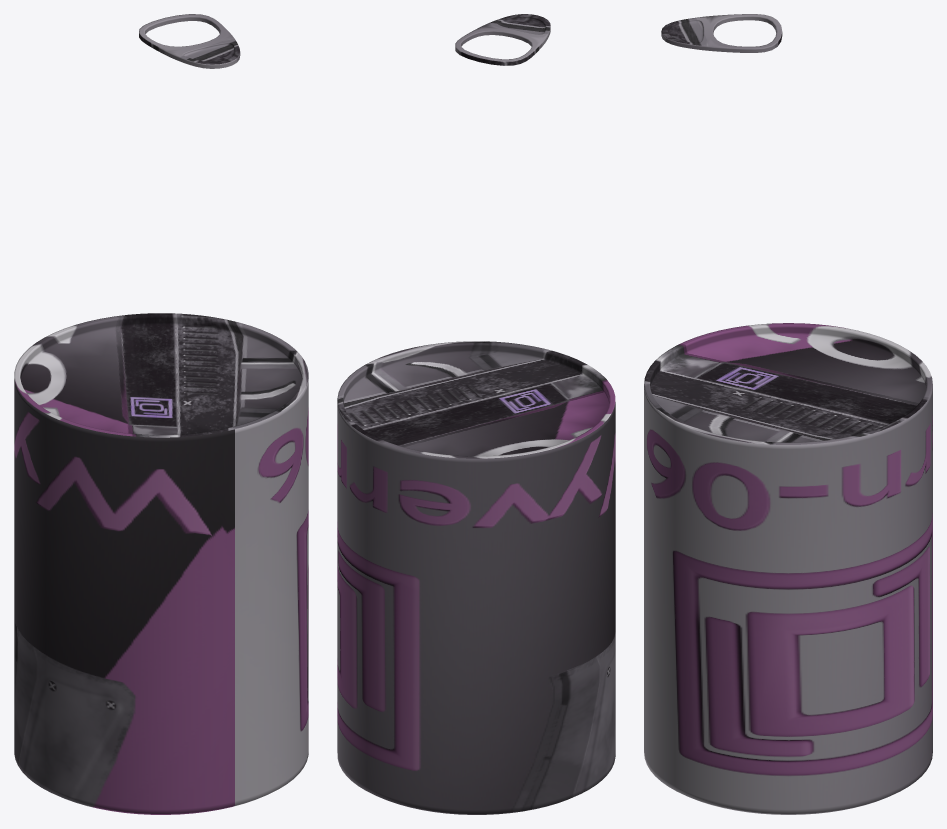
The model's file is SM_FoodCanHI.fbx.
The picture shows the model from 3 angles, left to right: view 1: azimuth 30°, elevation 25°; view 2: azimuth 150°, elevation 25°; view 3: azimuth 270°, elevation 25°; orthographic projection. The views are drawn at different scales.
Visible parts, largest first — view 1: TinCan base, TinCan opener; view 2: TinCan base, TinCan opener; view 3: TinCan base, TinCan opener.
Boxes of the visible parts, x1,y1,x2,y2 form: TinCan base: (14,313,308,814); TinCan opener: (139,14,240,68); TinCan base: (337,341,615,814); TinCan opener: (455,14,550,65); TinCan base: (644,323,932,814); TinCan opener: (661,14,782,52).
Size of the model in its own units: 7.31 by 7.31 by 20.25.
